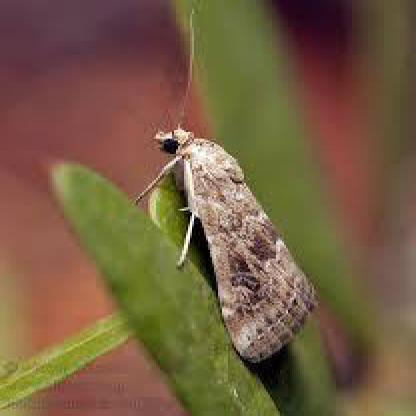Hellula undalis: (128, 3, 335, 366)
